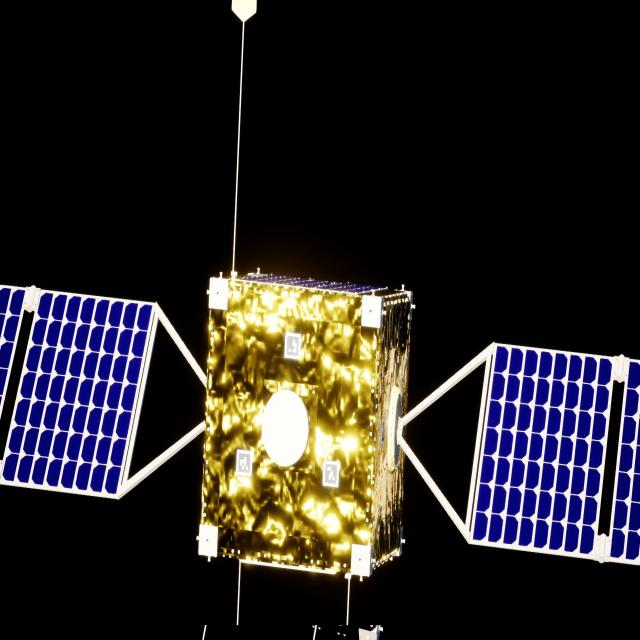satellite: (0, 274, 640, 581)
